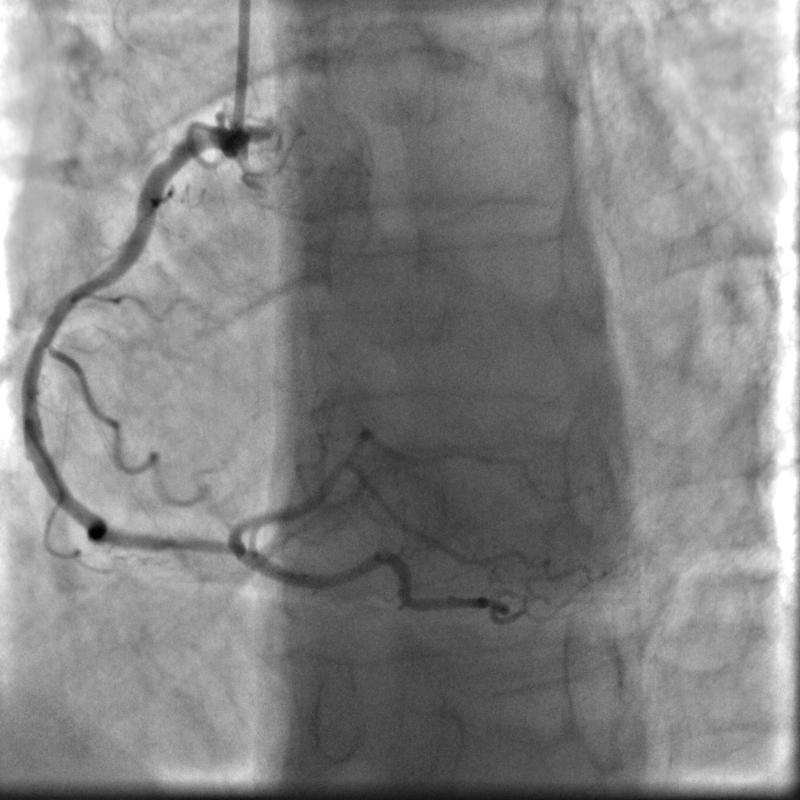Stenosis: (148, 523, 229, 565)
